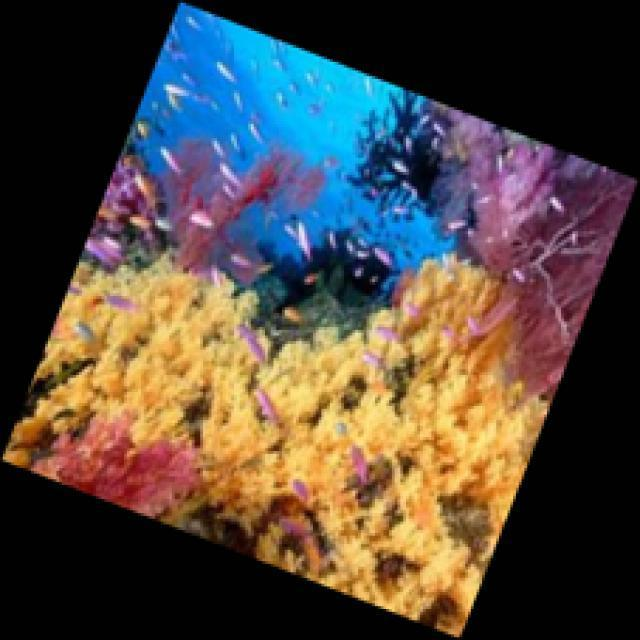Healthy: (1, 259, 553, 640), (435, 95, 640, 400), (164, 141, 333, 276), (49, 417, 204, 524), (81, 150, 165, 262)
